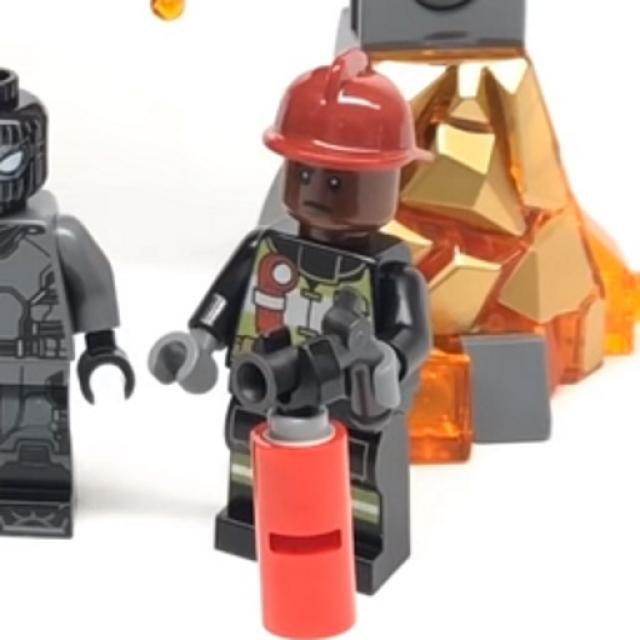Lego-Minifigures: (145, 47, 460, 600), (0, 34, 139, 546)
